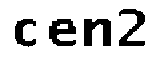2: (118, 6, 149, 50)
c: (10, 18, 39, 50)
e: (47, 18, 78, 49)
n: (82, 15, 114, 51)
